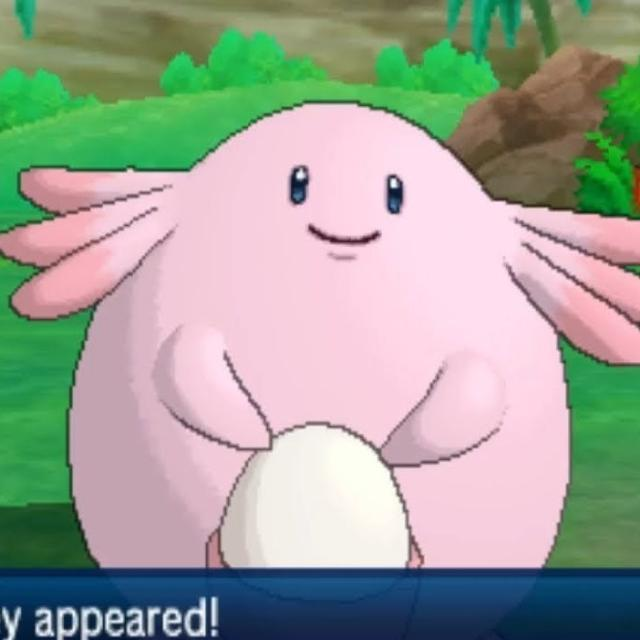Chansey: (64, 104, 578, 572)
